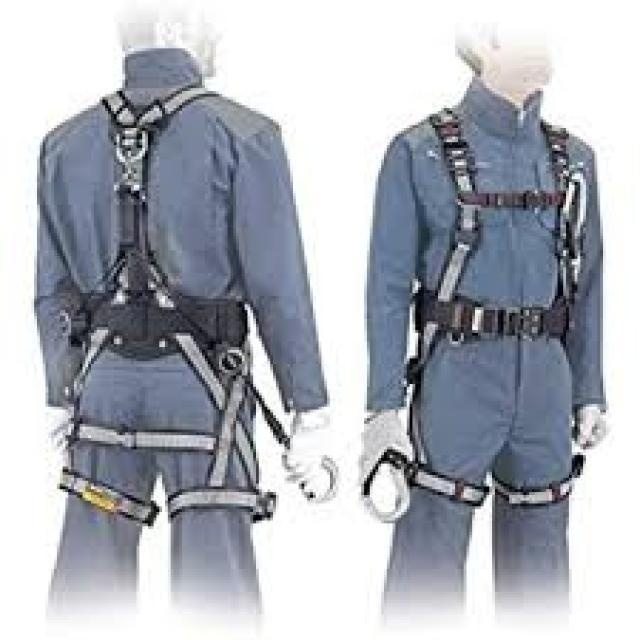Arnes_seguridad: (55, 91, 279, 526), (395, 105, 583, 509)
